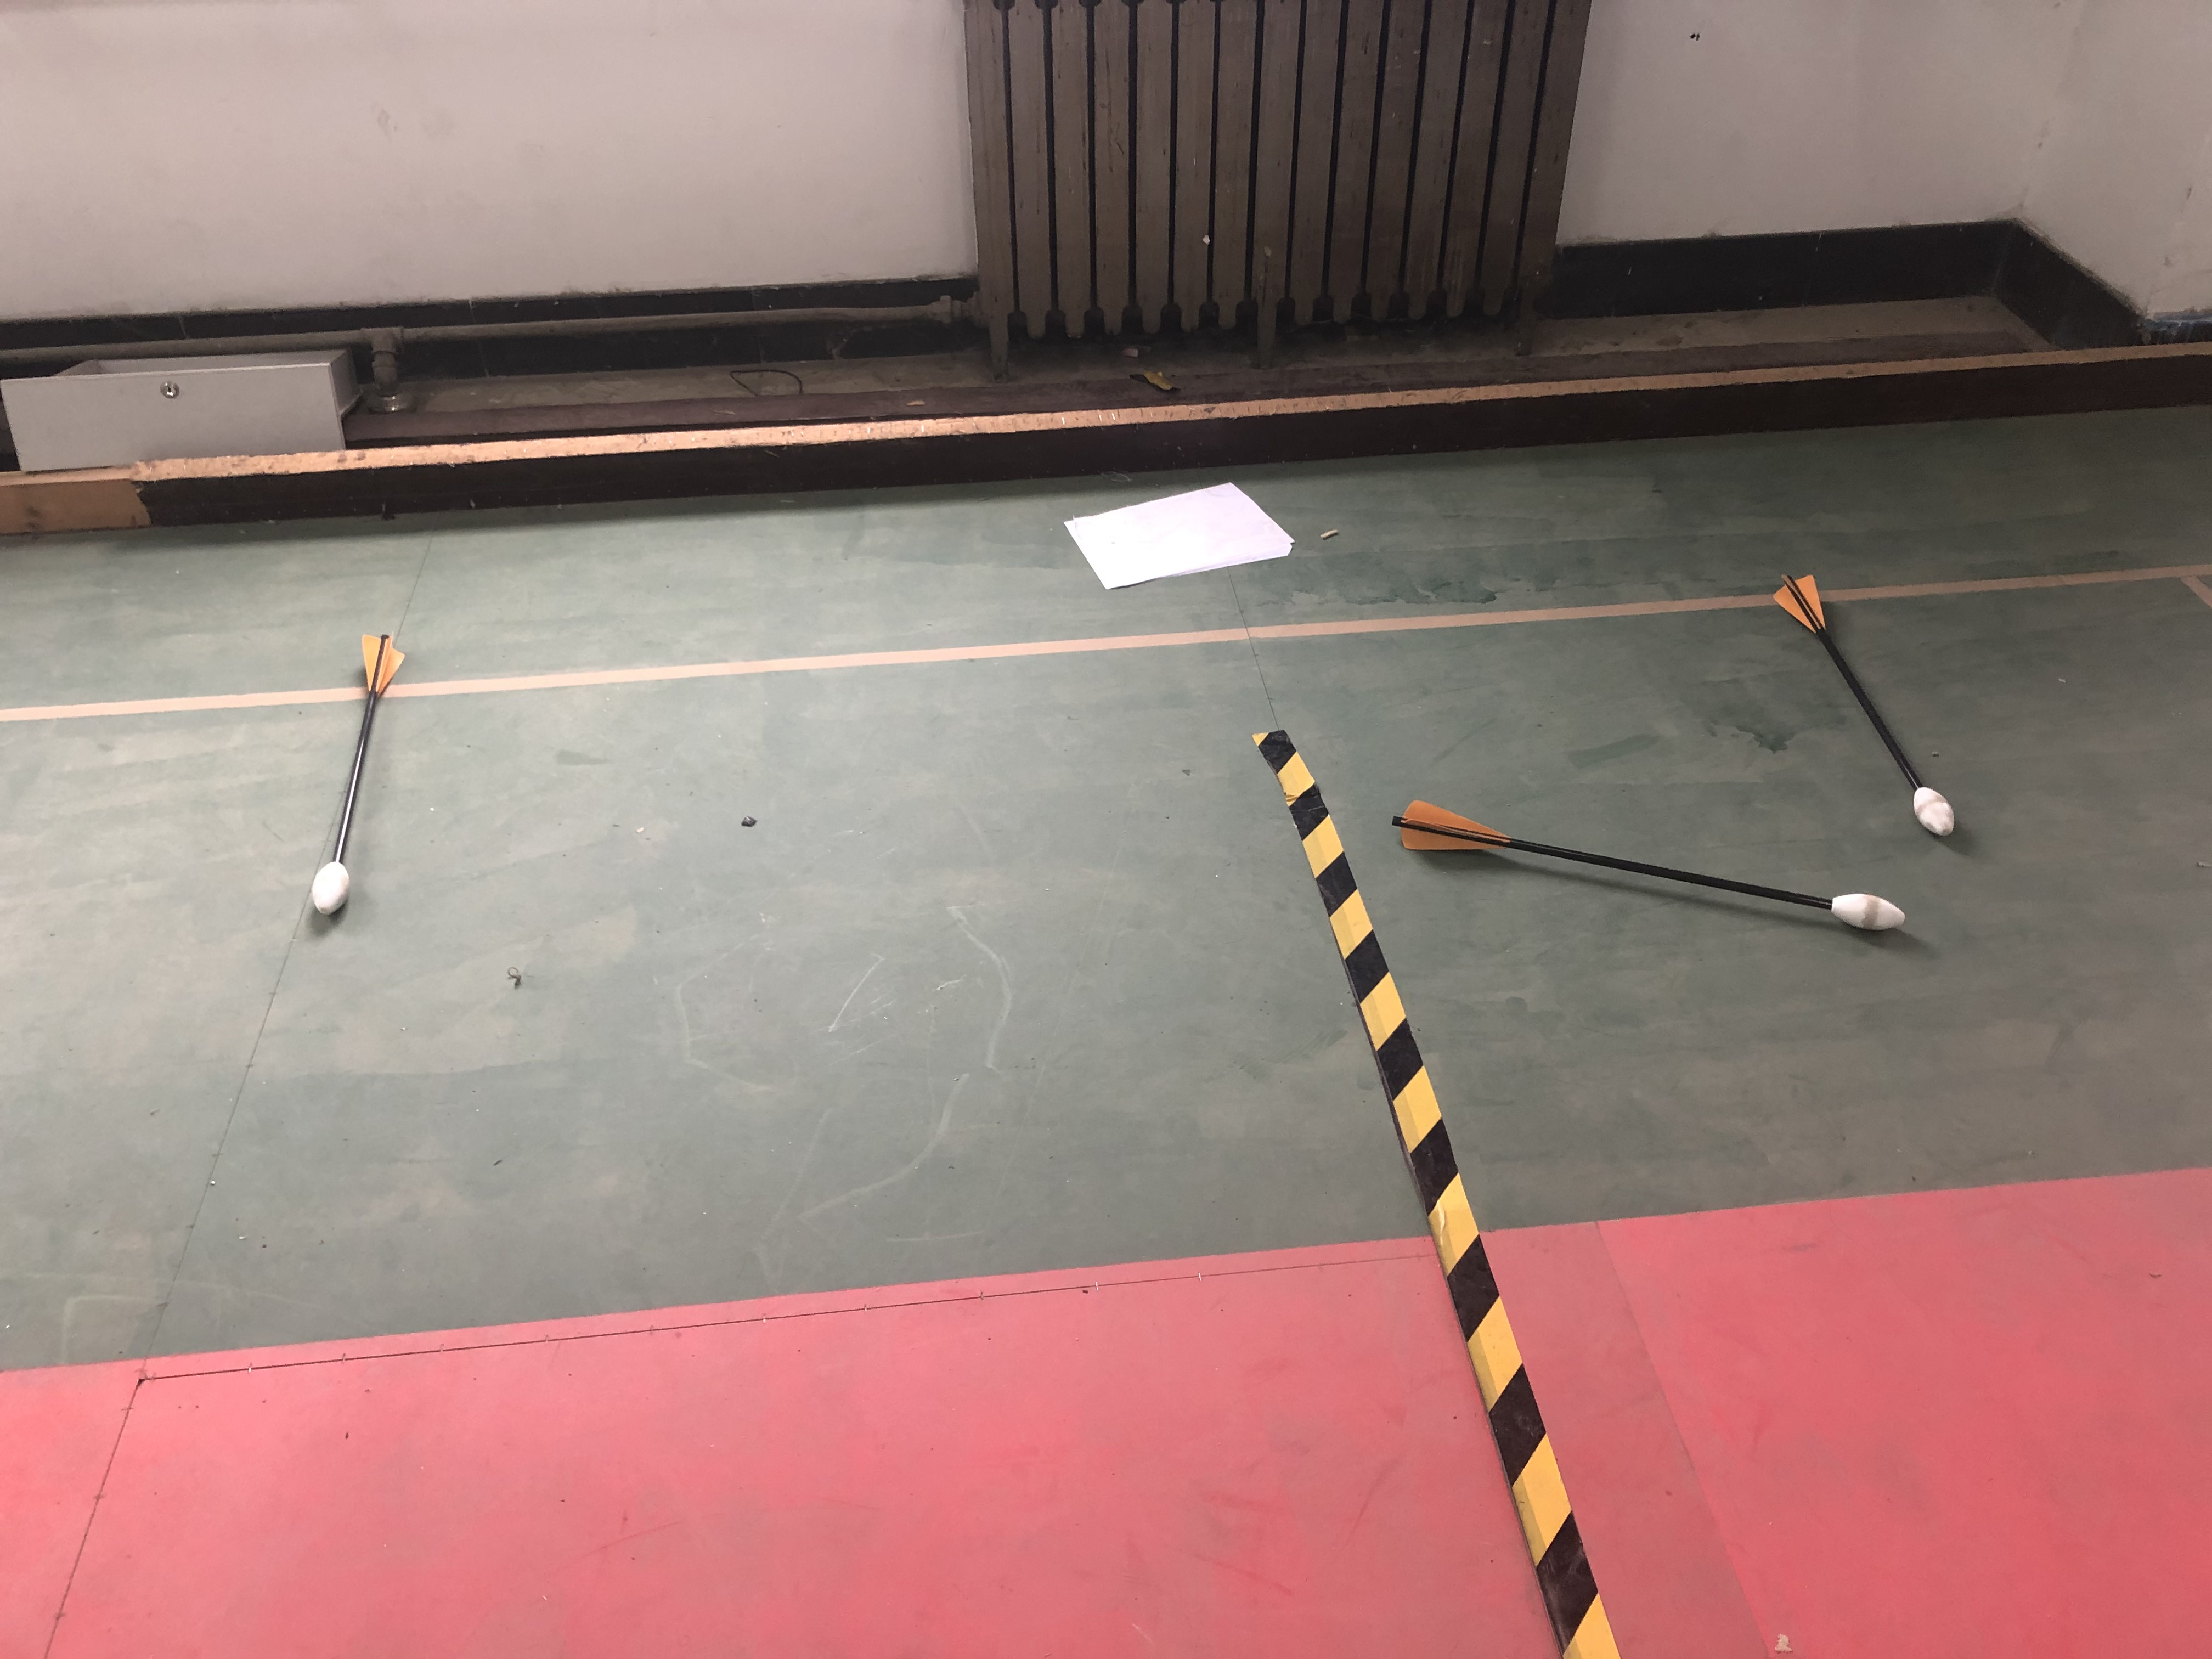arrow: (1388, 791, 1912, 925), (1768, 568, 1954, 838), (308, 627, 408, 931)
arrowFront: (1825, 889, 1916, 931), (1907, 779, 1958, 840), (312, 857, 354, 913)
